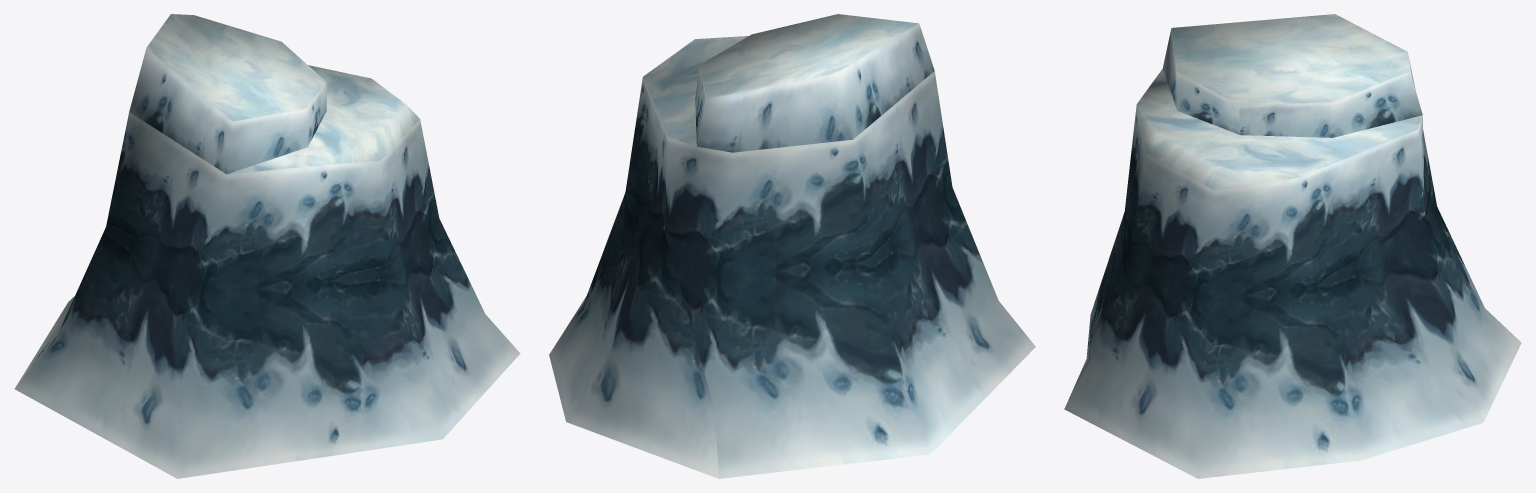
Rendered from 3-1_dibianshi3.FBX.
3 renders of one model, left to right at view 1: azimuth 30°, elevation 25°; view 2: azimuth 150°, elevation 25°; view 3: azimuth 270°, elevation 25°, orthographic. The views are drawn at different scales.
Visible parts, largest first — view 1: 3-1_dibianshi3; view 2: 3-1_dibianshi3; view 3: 3-1_dibianshi3.
Part boxes in pixels (x1,y1,x2,y2): 3-1_dibianshi3: (14, 14, 520, 478); 3-1_dibianshi3: (549, 14, 1035, 478); 3-1_dibianshi3: (1064, 14, 1521, 478).
Size of the model in its own units: 2317 by 1748 by 2262.
